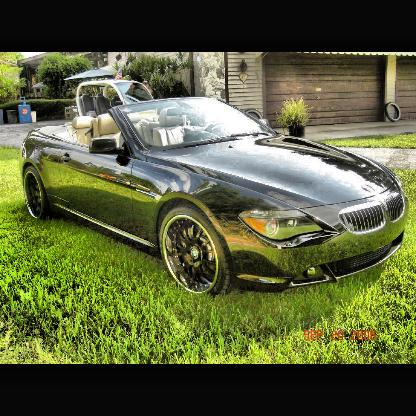BMW 6 Series Convertible 2007: (18, 94, 412, 303)
